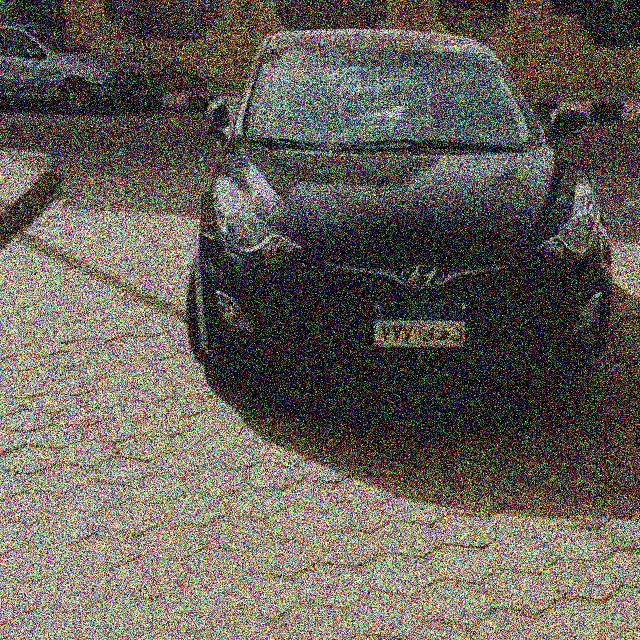License Plate: (369, 298, 471, 353)
